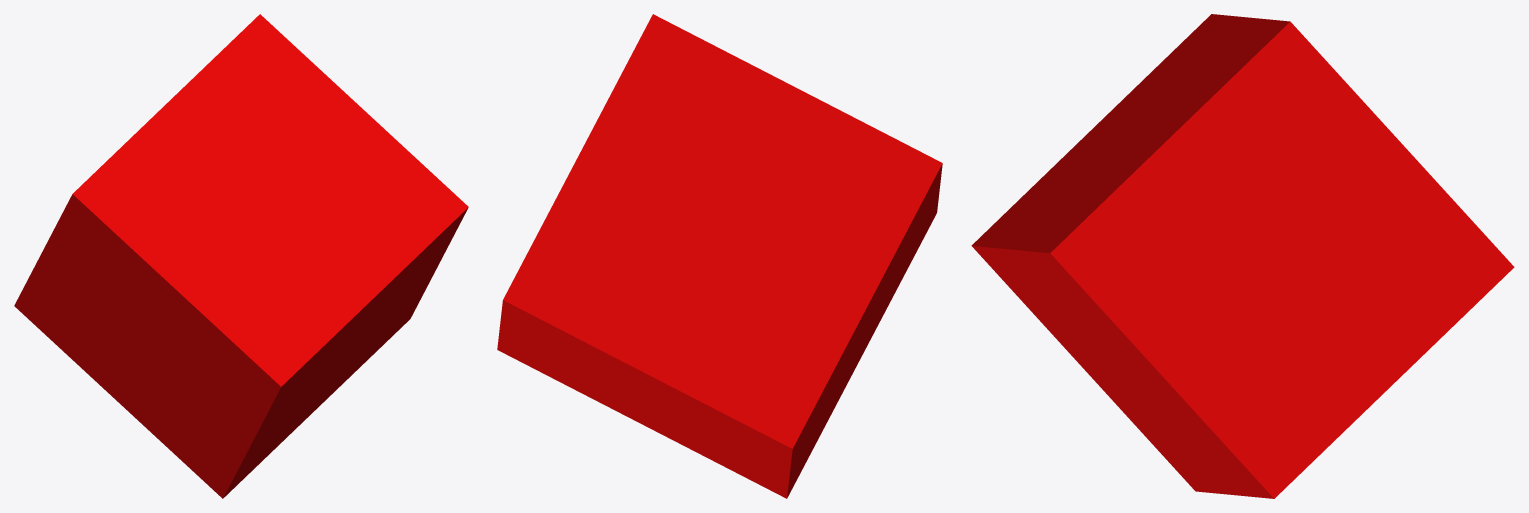
Rendered from Box_Student.glb.
3 renders of one model, left to right at view 1: azimuth 30°, elevation 25°; view 2: azimuth 150°, elevation 25°; view 3: azimuth 270°, elevation 25°, orthographic. The views are drawn at different scales.
Visible parts, largest first — view 1: Mesh; view 2: Mesh; view 3: Mesh.
Part boxes in pixels (bbox=[...]): Mesh: bbox=[14, 14, 468, 498]; Mesh: bbox=[497, 14, 942, 498]; Mesh: bbox=[971, 14, 1514, 498].
Size of the model in its own units: 1.47 by 1.68 by 1.61.
